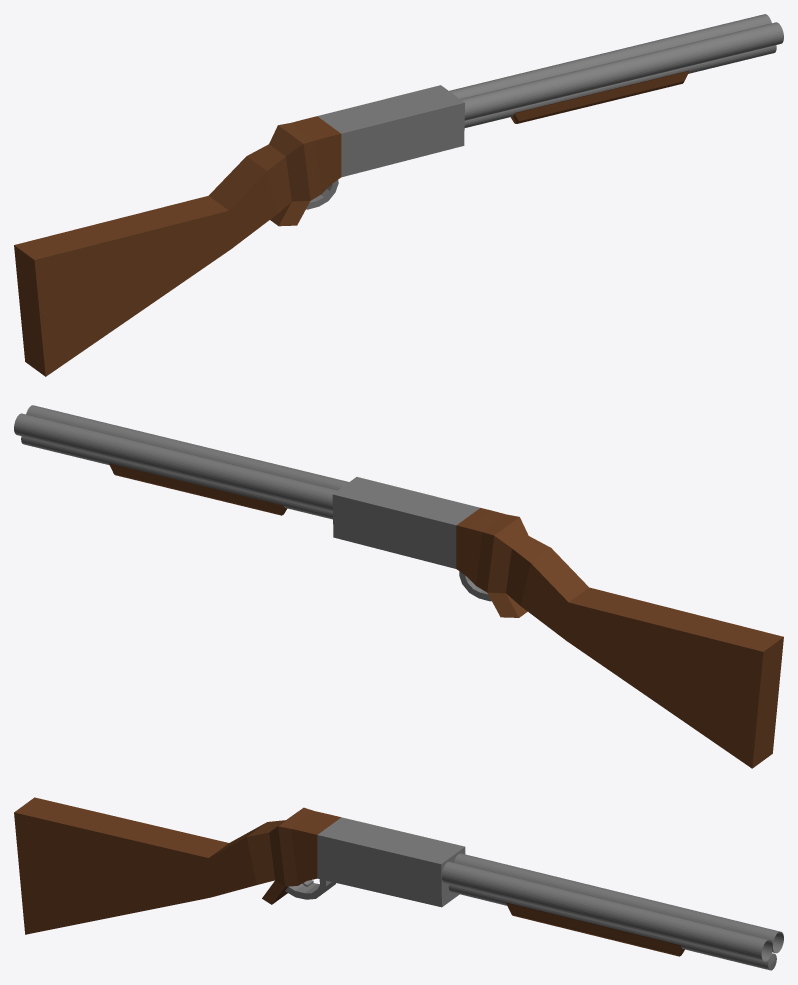
File: Shotgun.fbx
The picture shows the model from 3 angles, top to bottom: view 1: azimuth 30°, elevation 25°; view 2: azimuth 150°, elevation 25°; view 3: azimuth 330°, elevation 25°; orthographic projection.
Parts seen in each view (by area): view 1: Circle.001; view 2: Circle.001; view 3: Circle.001.
Boxes of the visible parts, x1=… form: Circle.001: x1=14, y1=14, x2=783, y2=376; Circle.001: x1=14, y1=405, x2=783, y2=768; Circle.001: x1=14, y1=797, x2=783, y2=970.
Size of the model in its own units: 438 by 97.13 by 25.91.
